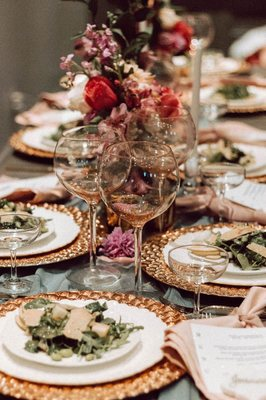curry: (0, 120, 265, 398)
sandwich: (99, 139, 179, 301), (53, 124, 121, 292), (164, 236, 229, 319), (0, 209, 41, 296)
